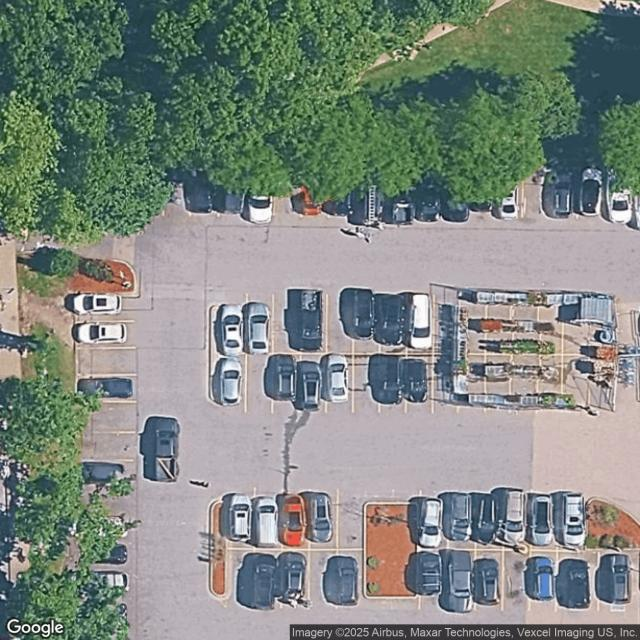car: (347, 169, 386, 224), (447, 550, 475, 612), (299, 288, 323, 351), (561, 491, 586, 548), (607, 170, 633, 223), (409, 293, 433, 350), (378, 293, 403, 346), (282, 493, 306, 547), (185, 169, 215, 212), (448, 491, 473, 542), (380, 354, 403, 406), (78, 377, 132, 399), (504, 489, 525, 545), (446, 174, 470, 223), (247, 302, 270, 353), (418, 172, 441, 223), (222, 303, 244, 355), (351, 288, 373, 340), (477, 559, 501, 606), (229, 494, 253, 541), (249, 177, 273, 224), (394, 170, 414, 226), (285, 554, 308, 602), (300, 170, 324, 216), (421, 498, 443, 548), (220, 356, 242, 406), (580, 166, 602, 216), (532, 493, 552, 547), (256, 497, 278, 545), (78, 463, 126, 485), (74, 294, 122, 316), (77, 323, 127, 344), (327, 353, 348, 403), (76, 519, 128, 539), (612, 553, 632, 604), (300, 361, 322, 407), (312, 494, 333, 542), (568, 560, 590, 605), (553, 169, 574, 216), (534, 556, 555, 602), (82, 571, 128, 592), (407, 359, 428, 404), (274, 354, 294, 400), (339, 557, 358, 604), (500, 176, 520, 220), (421, 554, 442, 595), (256, 563, 276, 606), (222, 177, 245, 214), (480, 493, 497, 543), (82, 544, 128, 562), (477, 174, 491, 212)
lot_boundary: (71, 163, 638, 636)
objects: (437, 287, 639, 414), (364, 503, 418, 598), (587, 499, 639, 550), (211, 502, 226, 596)
stall: (74, 402, 135, 433), (74, 433, 136, 461), (256, 488, 284, 549), (72, 595, 133, 623), (584, 551, 612, 611), (284, 488, 311, 550), (311, 488, 338, 550), (74, 321, 136, 348), (73, 460, 135, 487), (75, 375, 137, 402), (70, 567, 132, 594), (71, 540, 133, 567), (72, 514, 134, 541), (72, 488, 134, 515), (338, 488, 365, 550), (247, 292, 274, 353), (229, 488, 256, 549), (75, 347, 136, 374), (75, 294, 136, 321), (246, 353, 273, 413), (274, 353, 301, 413), (353, 354, 380, 414), (380, 353, 407, 413), (406, 354, 433, 414), (327, 294, 354, 354), (301, 294, 328, 354), (274, 293, 301, 353), (219, 354, 246, 414), (256, 549, 283, 609), (229, 550, 256, 610), (406, 294, 433, 354), (380, 294, 407, 354), (354, 294, 381, 354), (557, 551, 584, 611), (336, 549, 363, 609), (311, 549, 338, 609), (282, 549, 309, 609), (531, 551, 558, 611), (477, 549, 504, 609), (448, 549, 475, 609), (420, 548, 447, 608), (558, 492, 585, 552), (530, 491, 557, 551), (503, 489, 530, 549), (476, 489, 503, 549), (445, 489, 472, 549), (528, 165, 555, 225), (553, 165, 580, 225), (579, 165, 606, 225), (608, 165, 635, 225), (394, 166, 421, 226), (420, 165, 447, 225), (447, 166, 474, 226), (473, 165, 500, 225), (500, 165, 527, 225), (153, 168, 180, 228), (179, 167, 206, 227), (204, 167, 231, 227), (231, 166, 258, 226), (257, 166, 284, 226), (285, 167, 312, 227), (339, 166, 366, 226), (326, 355, 353, 414), (312, 167, 339, 226), (300, 354, 326, 414), (220, 294, 246, 354), (504, 549, 530, 609), (419, 489, 445, 549), (366, 165, 392, 225), (613, 552, 639, 611)
